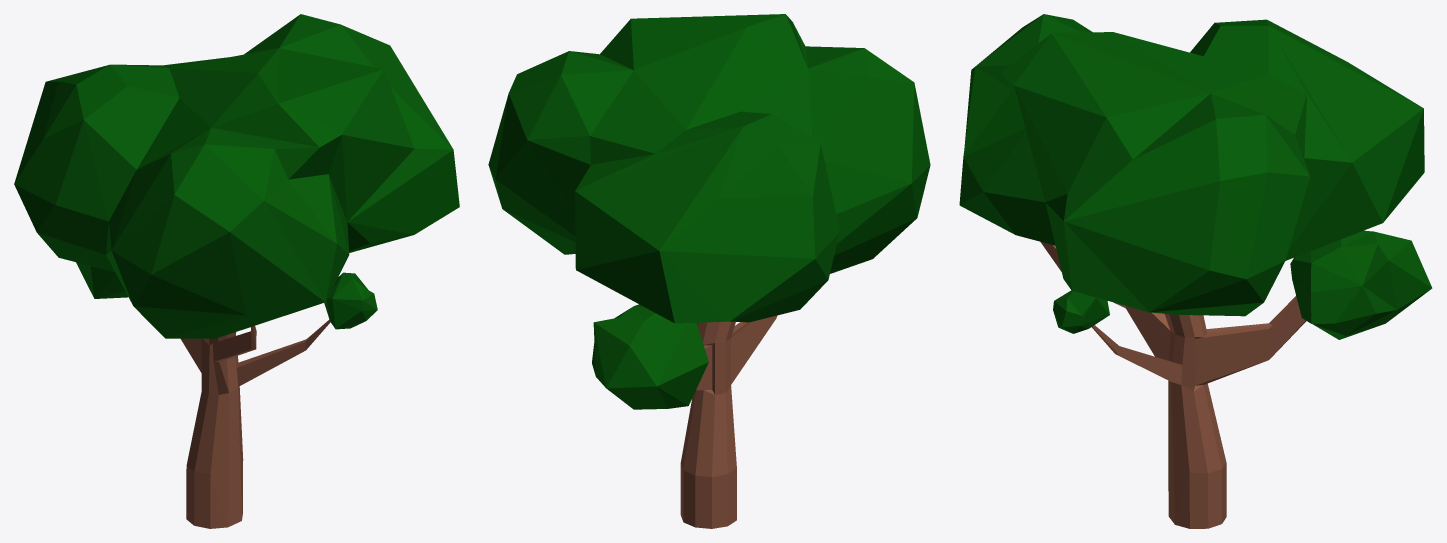
Rendered from tree3.fbx.
3 views of the same model, side by side, from view 1: azimuth 30°, elevation 25°; view 2: azimuth 150°, elevation 25°; view 3: azimuth 270°, elevation 25° (orthographic). The views are drawn at different scales.
Visible parts, largest first — view 1: Leaves, Trunk; view 2: Leaves, Trunk; view 3: Leaves, Trunk.
Part boxes in pixels (left/top/right/bottom): Leaves: left=14, top=14, right=459, bottom=338; Trunk: left=181, top=319, right=330, bottom=528; Leaves: left=488, top=14, right=930, bottom=409; Trunk: left=680, top=315, right=777, bottom=528; Leaves: left=959, top=14, right=1432, bottom=339; Trunk: left=1040, top=242, right=1306, bottom=528.
Bounding box in the file's own units: 5.63 × 6.96 × 6.14.
